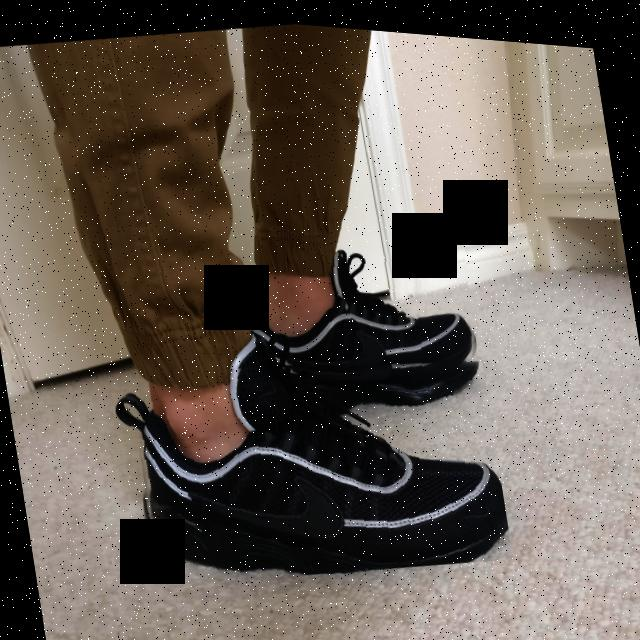shoe: (119, 314, 513, 607), (243, 222, 487, 413)
